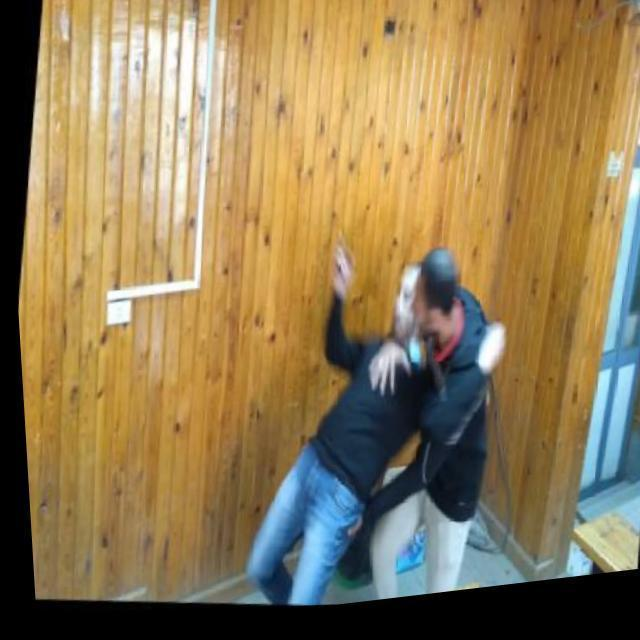fight: (228, 222, 518, 620)
